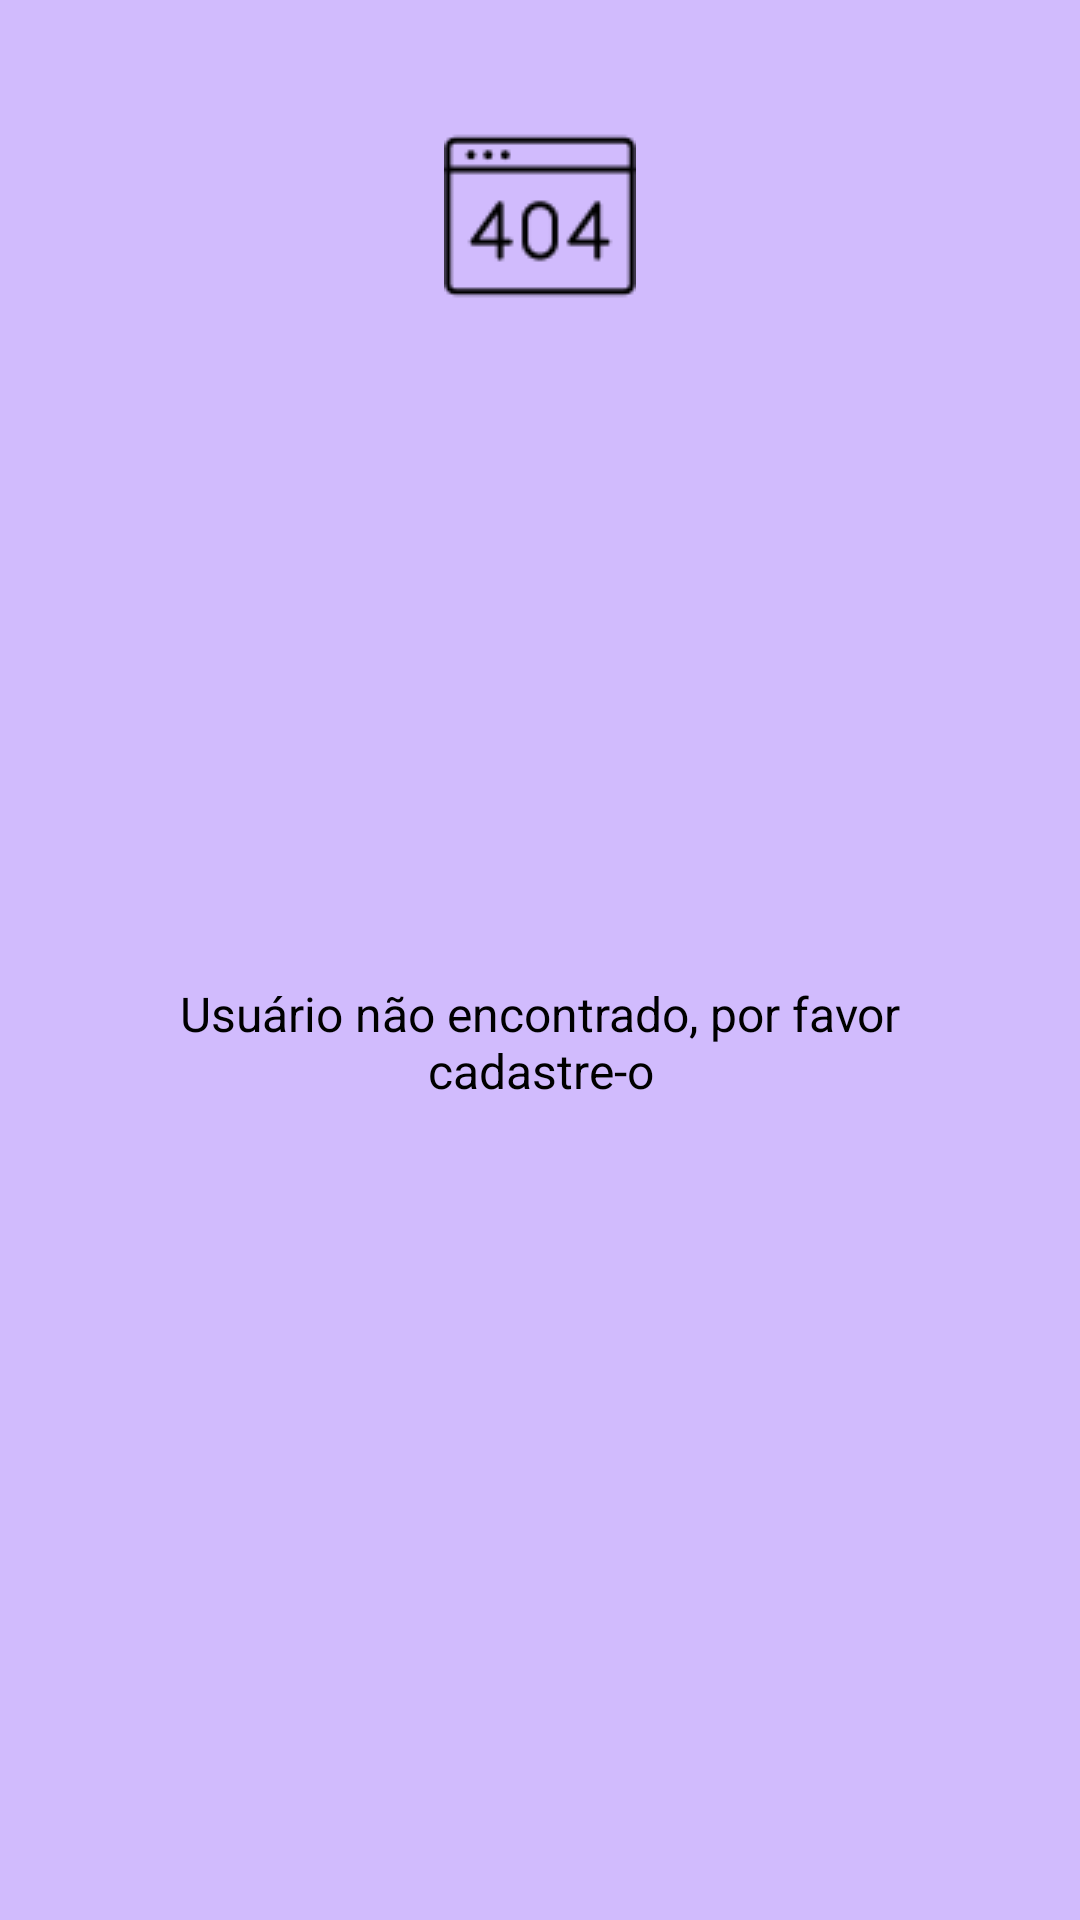

Icon bounding boxes for this 1080x1920 phone screenshot, format detection(x1, y1, x2, y2):
error: detection(444, 135, 636, 297)
